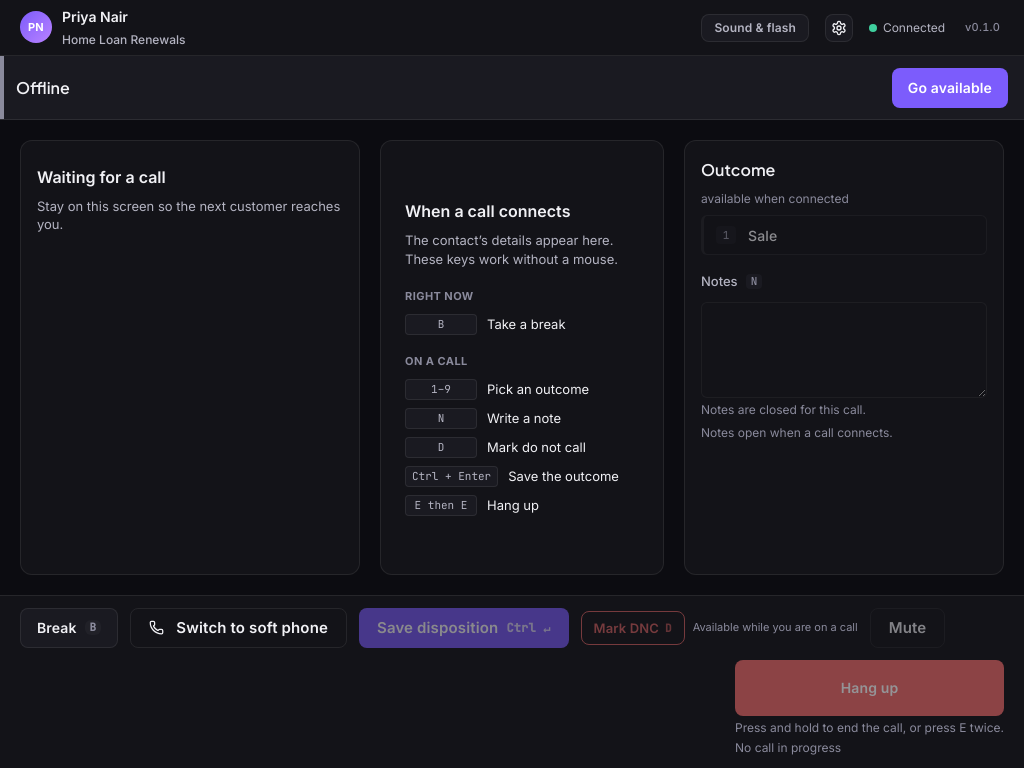
it: Switch to soft phone › says why when the switch is refused
Click the button with test id "switch-to-softphone" at [239, 628], box [130,608,347,648]
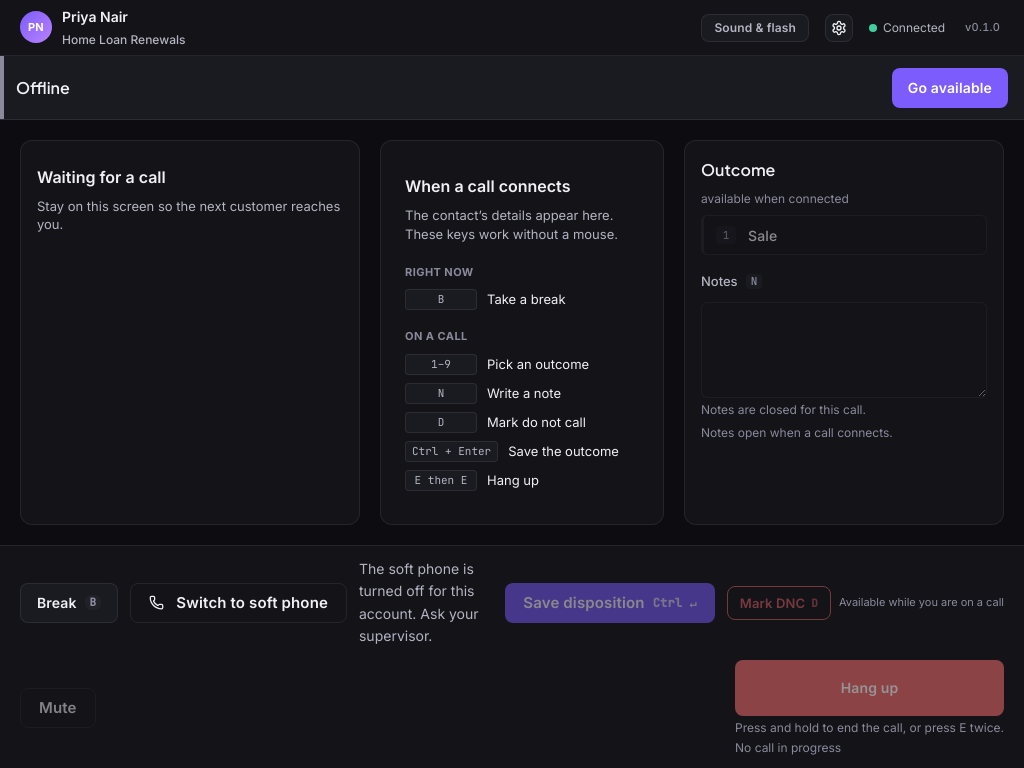
Now the message with test id "switch-to-softphone-refused" shows "turned off for this account", box [359,560,479,644]
